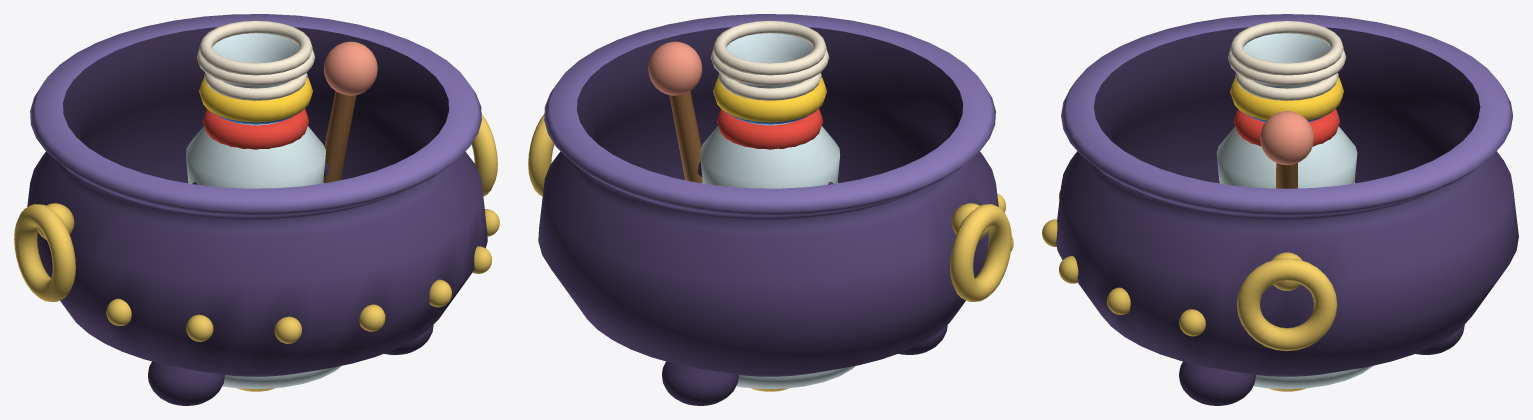
Rendered from potion.glb.
3 views of the same model, side by side, from view 1: azimuth 30°, elevation 25°; view 2: azimuth 150°, elevation 25°; view 3: azimuth 270°, elevation 25° (orthographic).
Parts seen in each view (by area): view 1: cauldron, glass_yellow, ladle, cap_red, cap_yellow, glass_blue, cap_blue; view 2: cauldron, glass_yellow, ladle, cap_red, cap_yellow, glass_blue, cap_blue; view 3: cauldron, glass_yellow, cap_yellow, glass_blue, cap_blue, ladle, cap_red.
Part boxes in pixels (x1,y1,x2,y2): cauldron: [14, 14, 499, 405]; glass_yellow: [186, 81, 325, 188]; ladle: [237, 41, 377, 391]; cap_red: [203, 72, 308, 149]; cap_yellow: [196, 49, 315, 122]; glass_blue: [212, 33, 341, 388]; cap_blue: [199, 20, 312, 124]; cauldron: [528, 14, 1013, 405]; glass_yellow: [700, 81, 840, 188]; ladle: [648, 41, 788, 391]; cap_red: [717, 72, 822, 149]; cap_yellow: [710, 49, 829, 122]; glass_blue: [726, 33, 855, 388]; cap_blue: [713, 20, 826, 124]; cauldron: [1042, 14, 1518, 405]; glass_yellow: [1216, 81, 1357, 188]; cap_yellow: [1227, 49, 1346, 120]; glass_blue: [1243, 33, 1373, 388]; cap_blue: [1230, 21, 1343, 122]; ladle: [1260, 111, 1313, 391]; cap_red: [1234, 73, 1340, 146].
Bounding box in the file's own units: 1.32 × 0.98 × 1.23.
